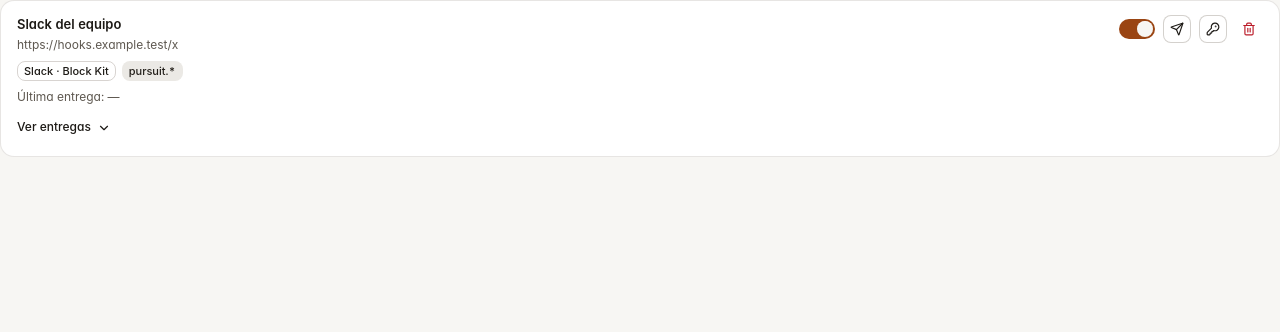
Test: WebhookRow: rotar el secreto › pide confirmación, rota en la organización del webhook y enseña el secreto una vez
What coordinates should you click on to do the following:
click the button named "Rotar el secreto de Slack del equipo"
I would click on:
 (1213, 29)
Its box is [1199, 15, 1227, 43].
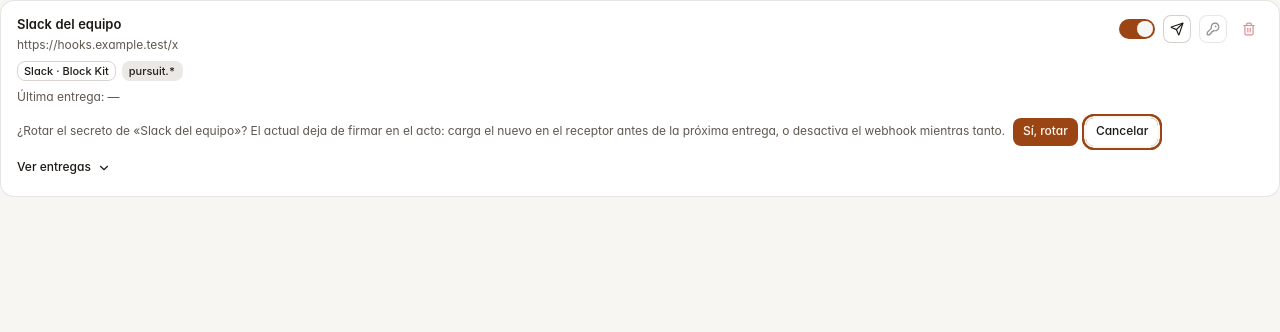
Expected: the text "deja de firmar en el acto" is shown, [234, 124, 1005, 138]
What coordinates should you click on to do the following:
click the button "Sí, rotar"
I would click on:
 (1045, 132)
Its box is [1013, 118, 1078, 146].
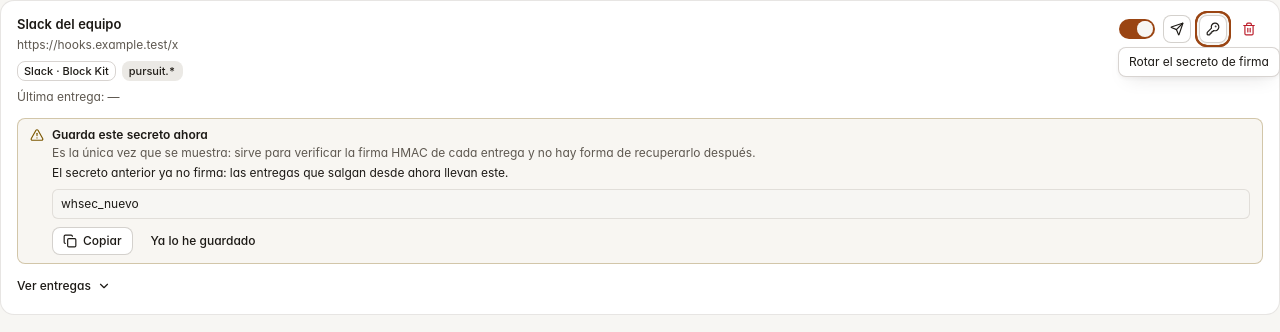
Expected: the text "whsec_nuevo" is shown, [52, 189, 1250, 219]
Expected: the text "El secreto anterior ya no firma" is shown, [52, 165, 508, 180]
What coordinates should you click on to do the following:
click the button "Ya lo he guardado"
I would click on:
 (203, 241)
Its box is [141, 227, 266, 255].
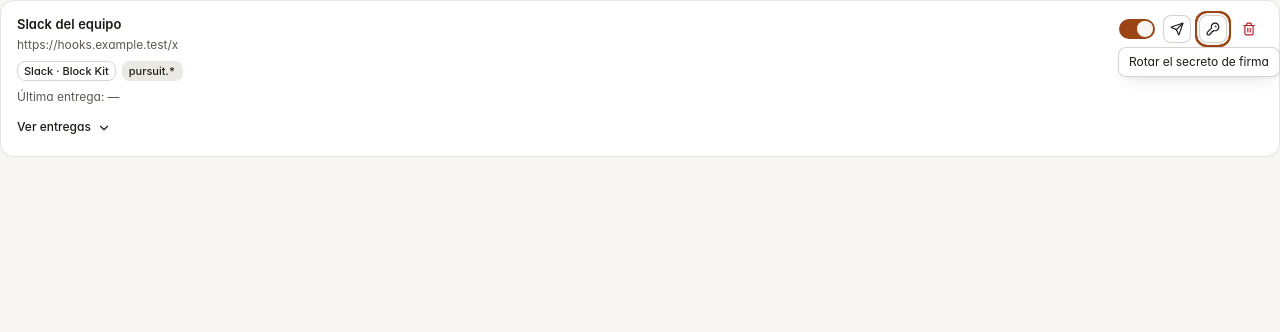
Expected: the text "whsec_nuevo" is gone
